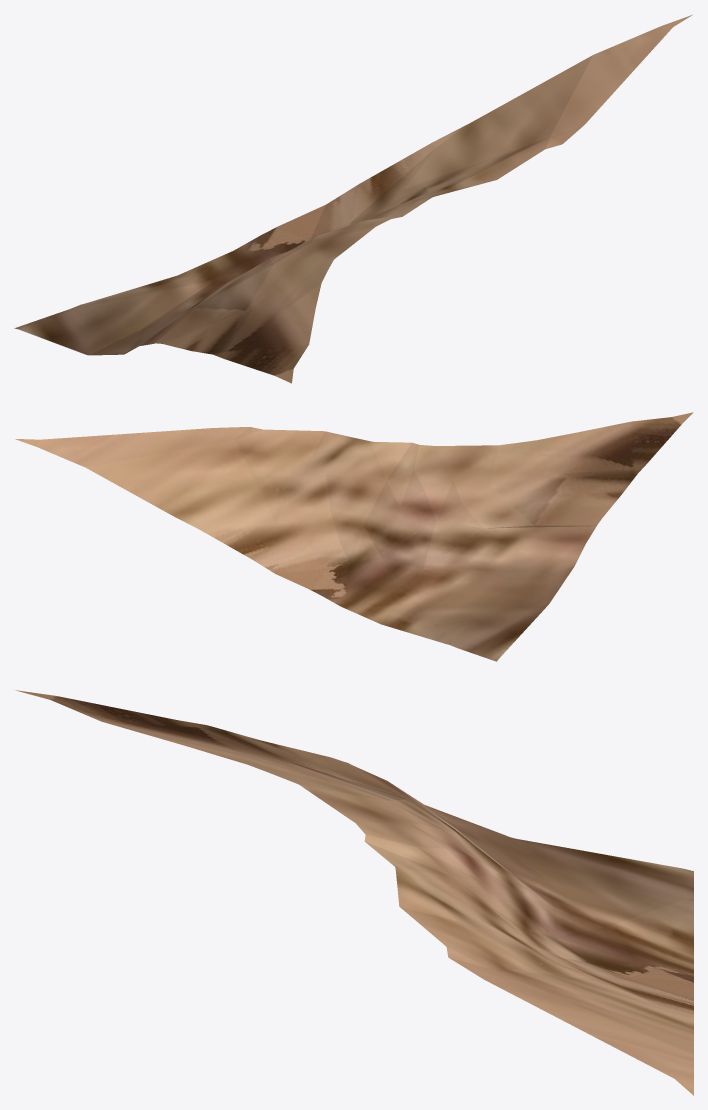
3 renders of one model, top to bottom at view 1: azimuth 30°, elevation 25°; view 2: azimuth 150°, elevation 25°; view 3: azimuth 270°, elevation 25°, orthographic. The views are drawn at different scales.
Size of the model in its own units: 0.5238 by 0.1091 by 0.3708.
1 material, 1 textured.
